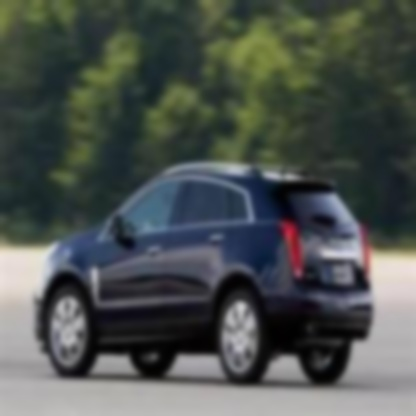Vehicle: (32, 154, 374, 398)
